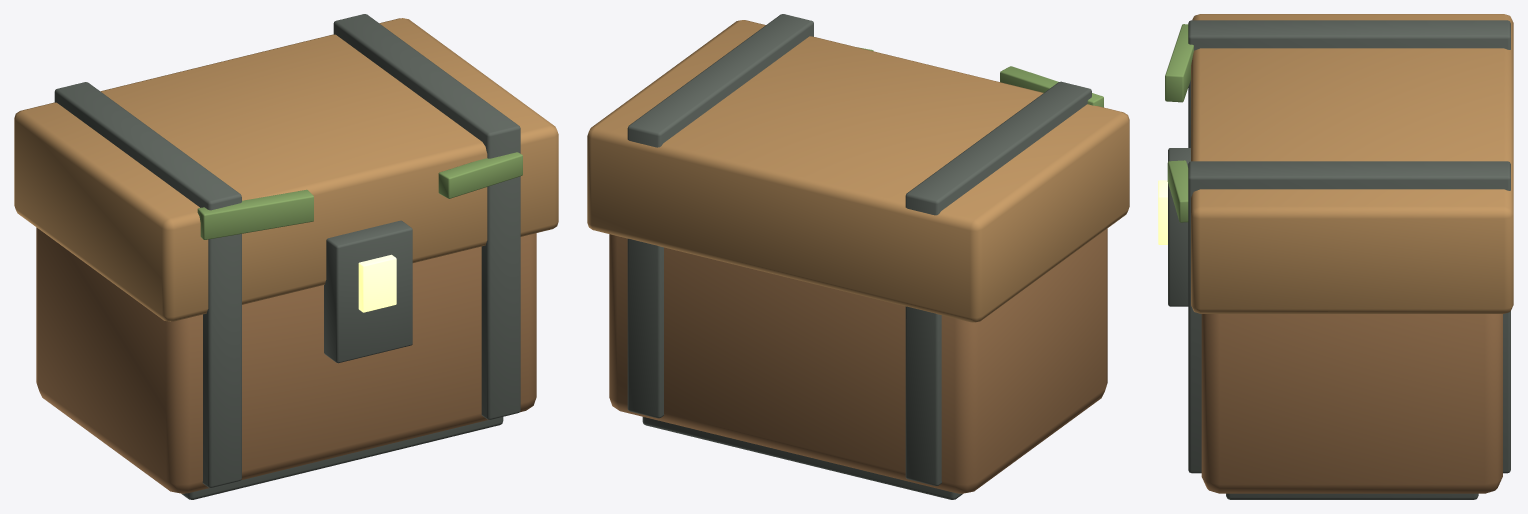
File: prop_wayfinder_chest_v1.glb
3 renders of one model, left to right at view 1: azimuth 30°, elevation 25°; view 2: azimuth 150°, elevation 25°; view 3: azimuth 270°, elevation 25°, orthographic. The views are drawn at different scales.
Visible parts, largest first — view 1: Chest_Lid, Chest_Body, Chest_Band.001, Chest_Band, Chest_Latch, Chest_Moss_L, Chest_Feet, Chest_Moss_R, Chest_Rune; view 2: Chest_Lid, Chest_Body, Chest_Band.001, Chest_Band, Chest_Feet, Chest_Moss_L; view 3: Chest_Lid, Chest_Body, Chest_Band.001, Chest_Band, Chest_Latch, Chest_Feet, Chest_Moss_L, Chest_Moss_R, Chest_Rune.
Boxes of the visible parts, <box> form: Chest_Lid: <box>14,18,558,321</box>; Chest_Body: <box>36,227,536,493</box>; Chest_Band.001: <box>333,14,520,419</box>; Chest_Band: <box>54,82,241,487</box>; Chest_Latch: <box>324,220,412,363</box>; Chest_Moss_L: <box>197,189,313,239</box>; Chest_Feet: <box>181,417,503,499</box>; Chest_Moss_R: <box>438,152,522,198</box>; Chest_Rune: <box>358,254,396,312</box>; Chest_Lid: <box>587,20,1129,322</box>; Chest_Body: <box>609,228,1107,493</box>; Chest_Band.001: <box>627,14,813,418</box>; Chest_Band: <box>905,81,1091,485</box>; Chest_Feet: <box>642,417,962,499</box>; Chest_Moss_L: <box>1000,66,1103,107</box>; Chest_Lid: <box>1191,14,1513,313</box>; Chest_Body: <box>1201,314,1502,493</box>; Chest_Band.001: <box>1188,161,1510,473</box>; Chest_Band: <box>1188,20,1510,147</box>; Chest_Latch: <box>1168,148,1190,306</box>; Chest_Feet: <box>1226,493,1478,499</box>; Chest_Moss_L: <box>1165,24,1193,102</box>; Chest_Moss_R: <box>1167,160,1188,222</box>; Chest_Rune: <box>1158,180,1167,244</box>.
Bounding box in the file's own units: 0.88 × 0.665 × 0.6605.
